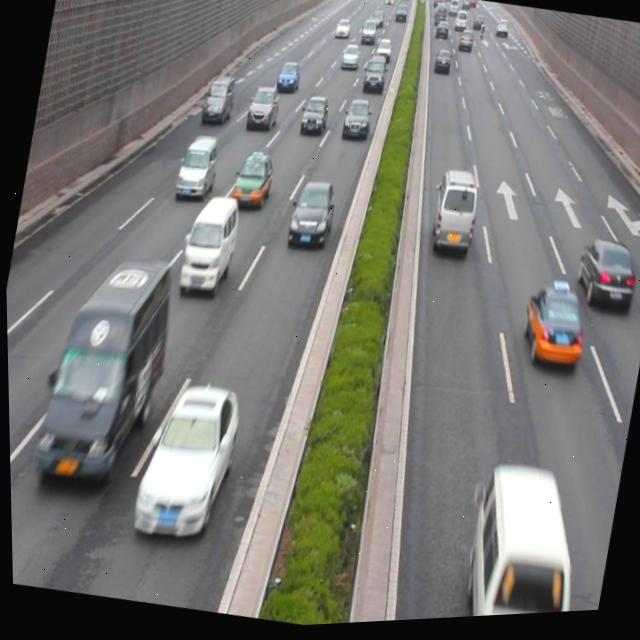car: (126, 375, 244, 546), (515, 281, 590, 375), (569, 236, 640, 322), (282, 177, 337, 256), (228, 151, 275, 217), (198, 74, 238, 129), (244, 84, 282, 138), (339, 100, 373, 149), (297, 96, 330, 140), (359, 58, 388, 98), (274, 62, 302, 97)
truck: (29, 247, 183, 494), (444, 458, 591, 622), (175, 191, 243, 300), (427, 169, 482, 258), (173, 133, 220, 204)
